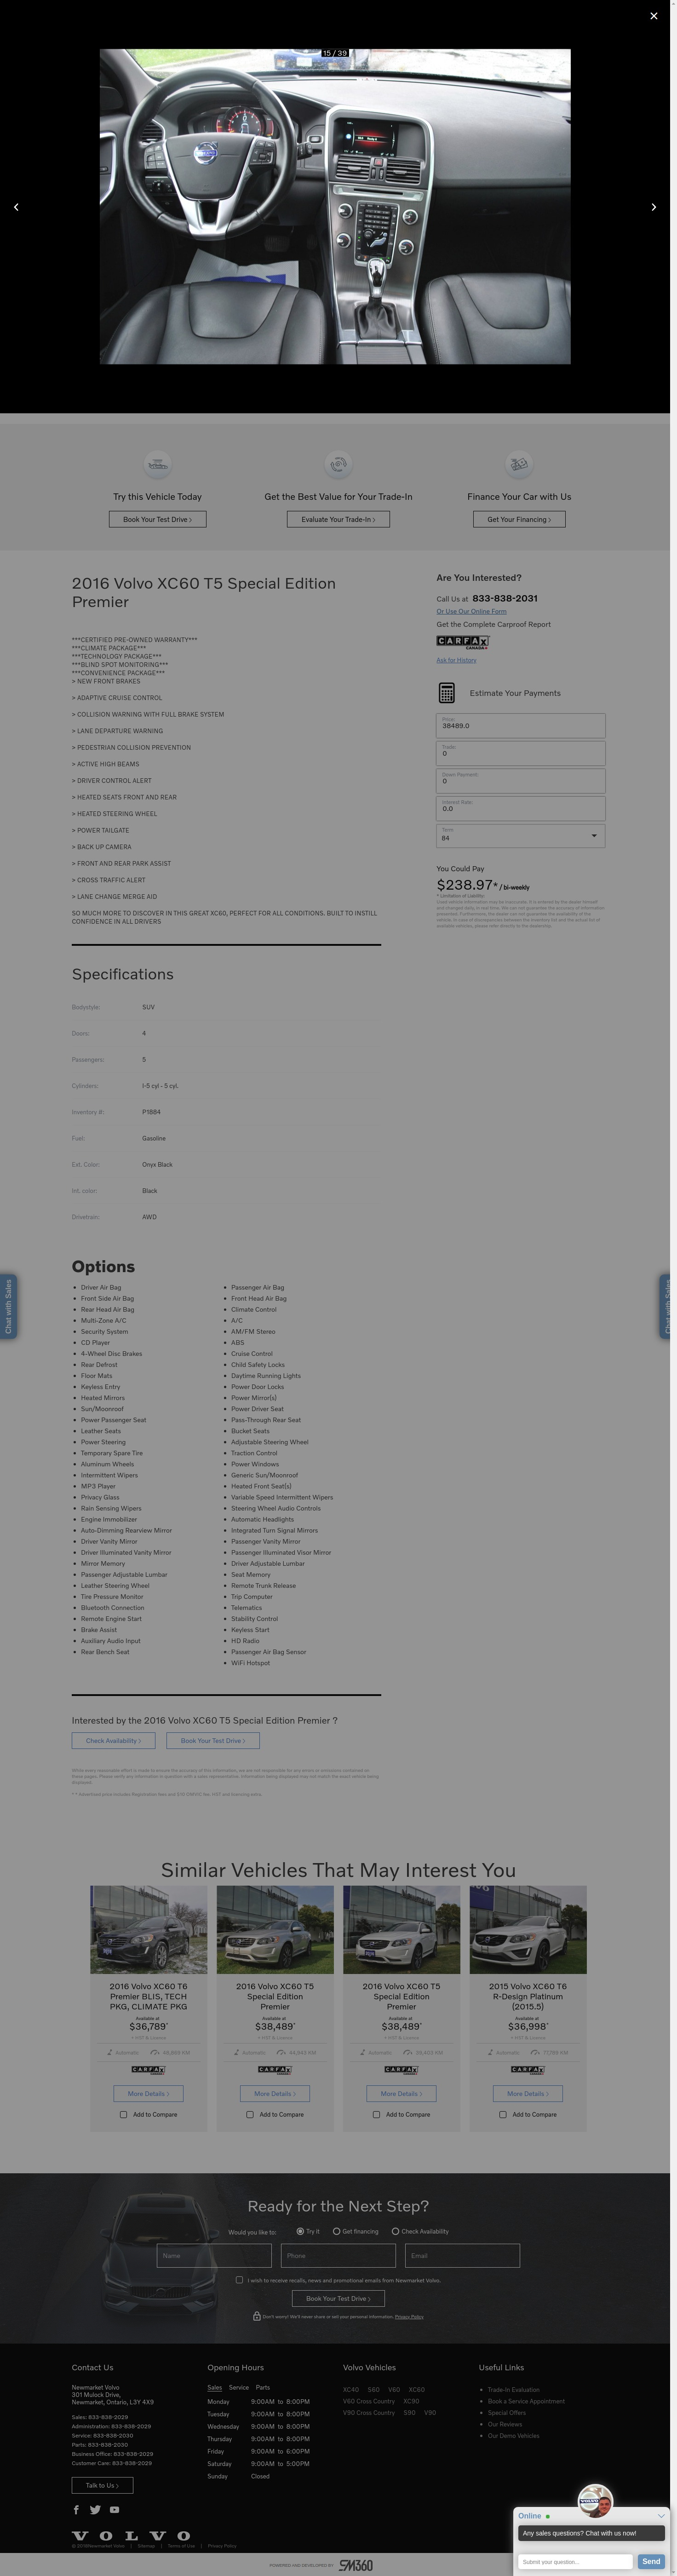car: (651, 204, 657, 212)
